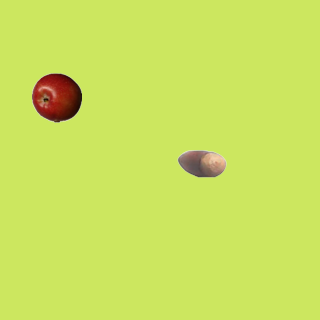Apple Braeburn: (31, 72, 81, 122)
Hazelnut: (176, 138, 226, 188)
